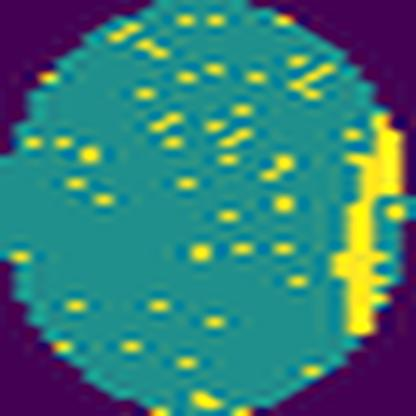Loc: (327, 113, 400, 336)
